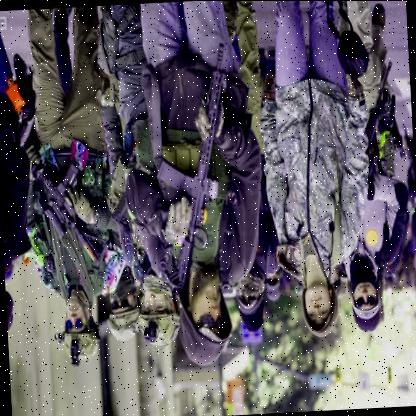rifle: (140, 39, 241, 299), (25, 144, 109, 274), (349, 54, 402, 190)
